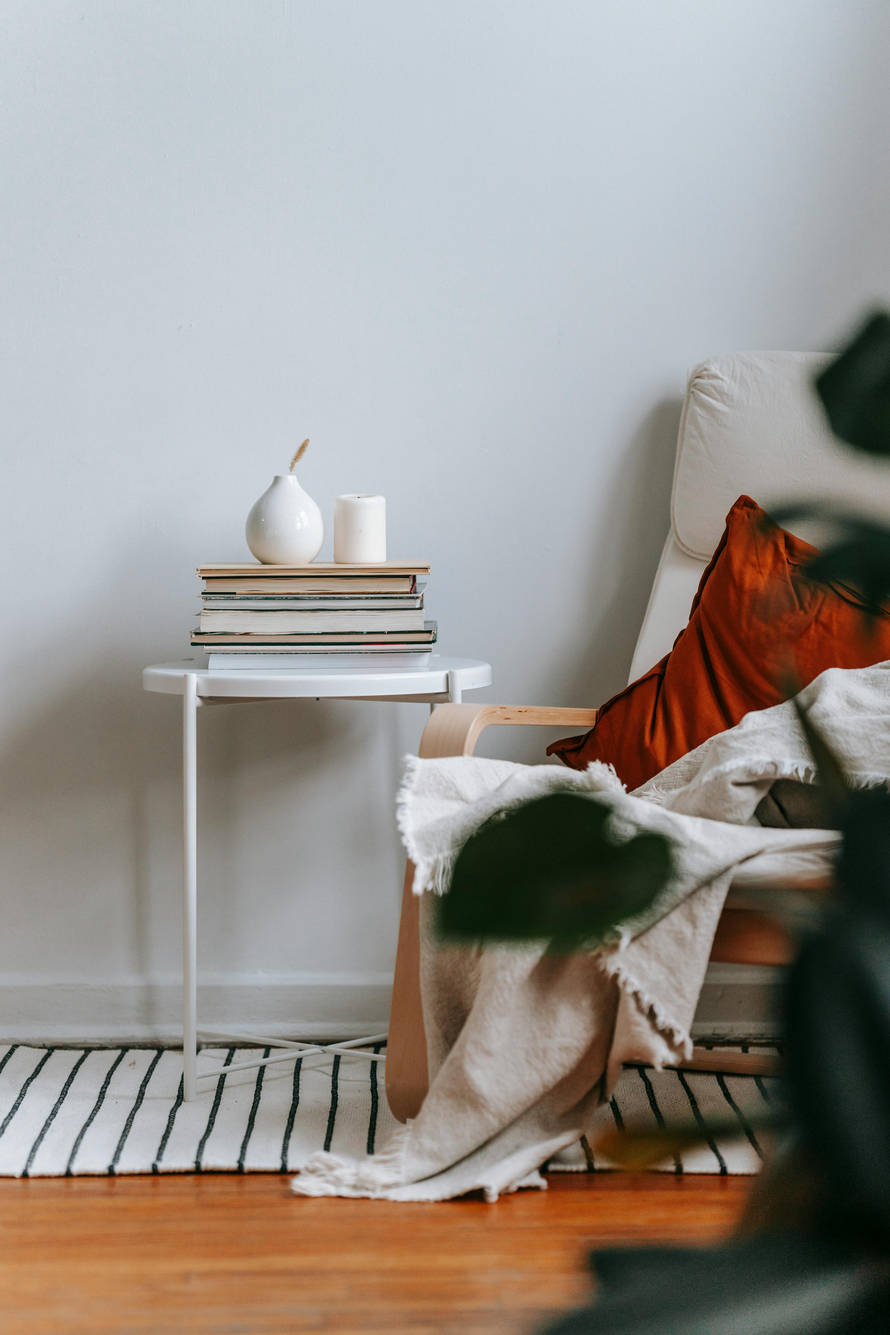not a gesture sign: (0, 0, 888, 1042), (199, 701, 426, 1032)
